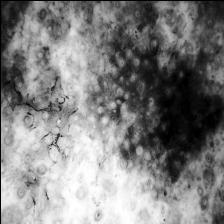Potentially Malignant Skin Tumors: (86, 38, 224, 195)
